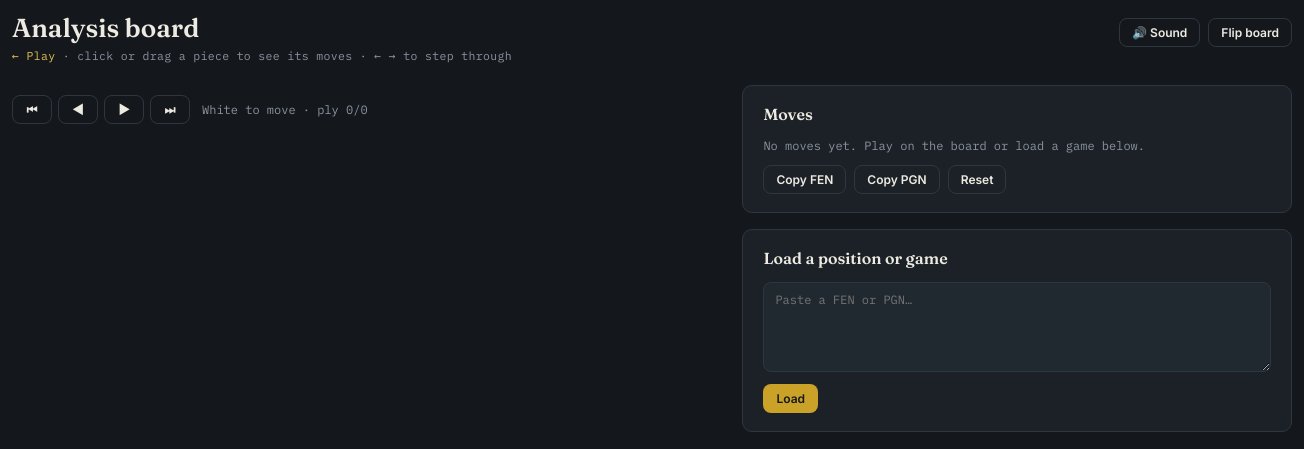
Test: AnalysisBoard › toggles the sound button label
Click the button "🔊 Sound" at (1160, 32), box [1119,18,1200,47]
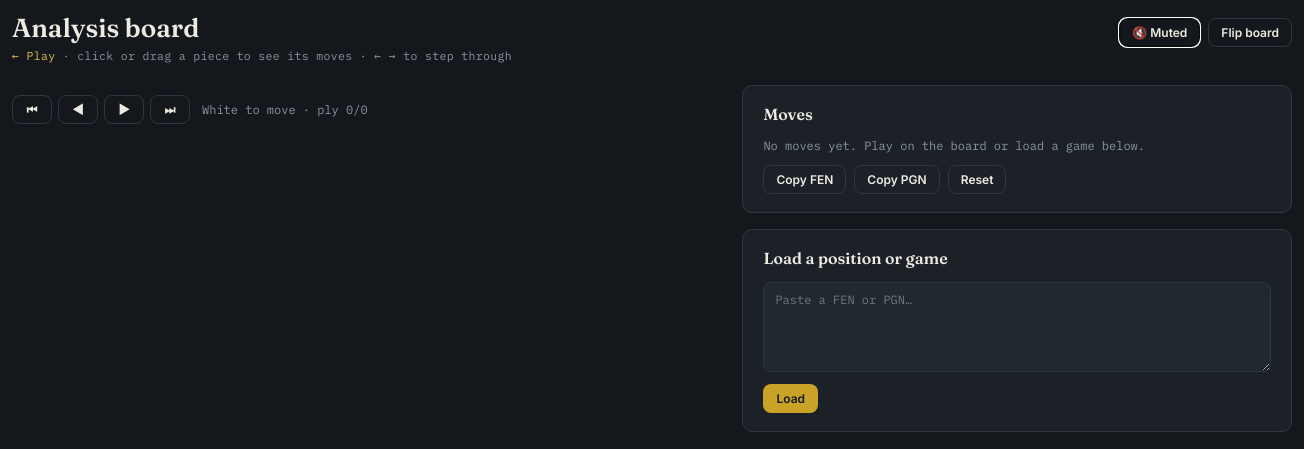
Now the button "🔇 Muted" is shown, box [1119,18,1200,47]
